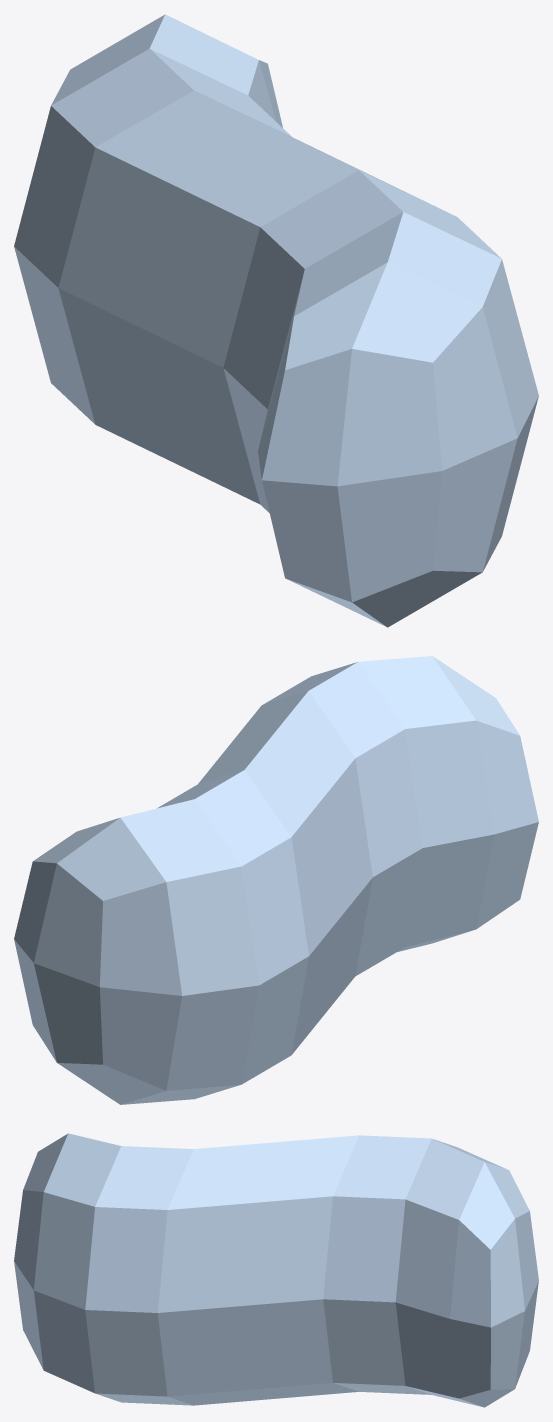
File: foam.glb
3 views of the same model, one above another, from view 1: azimuth 30°, elevation 25°; view 2: azimuth 150°, elevation 25°; view 3: azimuth 270°, elevation 25° (orthographic). The views are drawn at different scales.
Parts seen in each view (by area): view 1: Cube; view 2: Cube; view 3: Cube.
Boxes of the visible parts, x1,y1,x2,y2 form: Cube: (14, 14, 538, 627); Cube: (14, 656, 538, 1104); Cube: (14, 1133, 538, 1407).
Bounding box in the file's own units: 0.7907 × 0.8276 × 1.54.
Materials: 1 (1 with a texture image).
